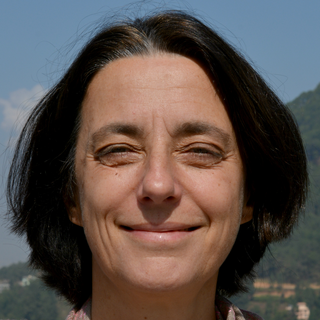eye: (96, 140, 144, 164), (174, 141, 223, 164)
